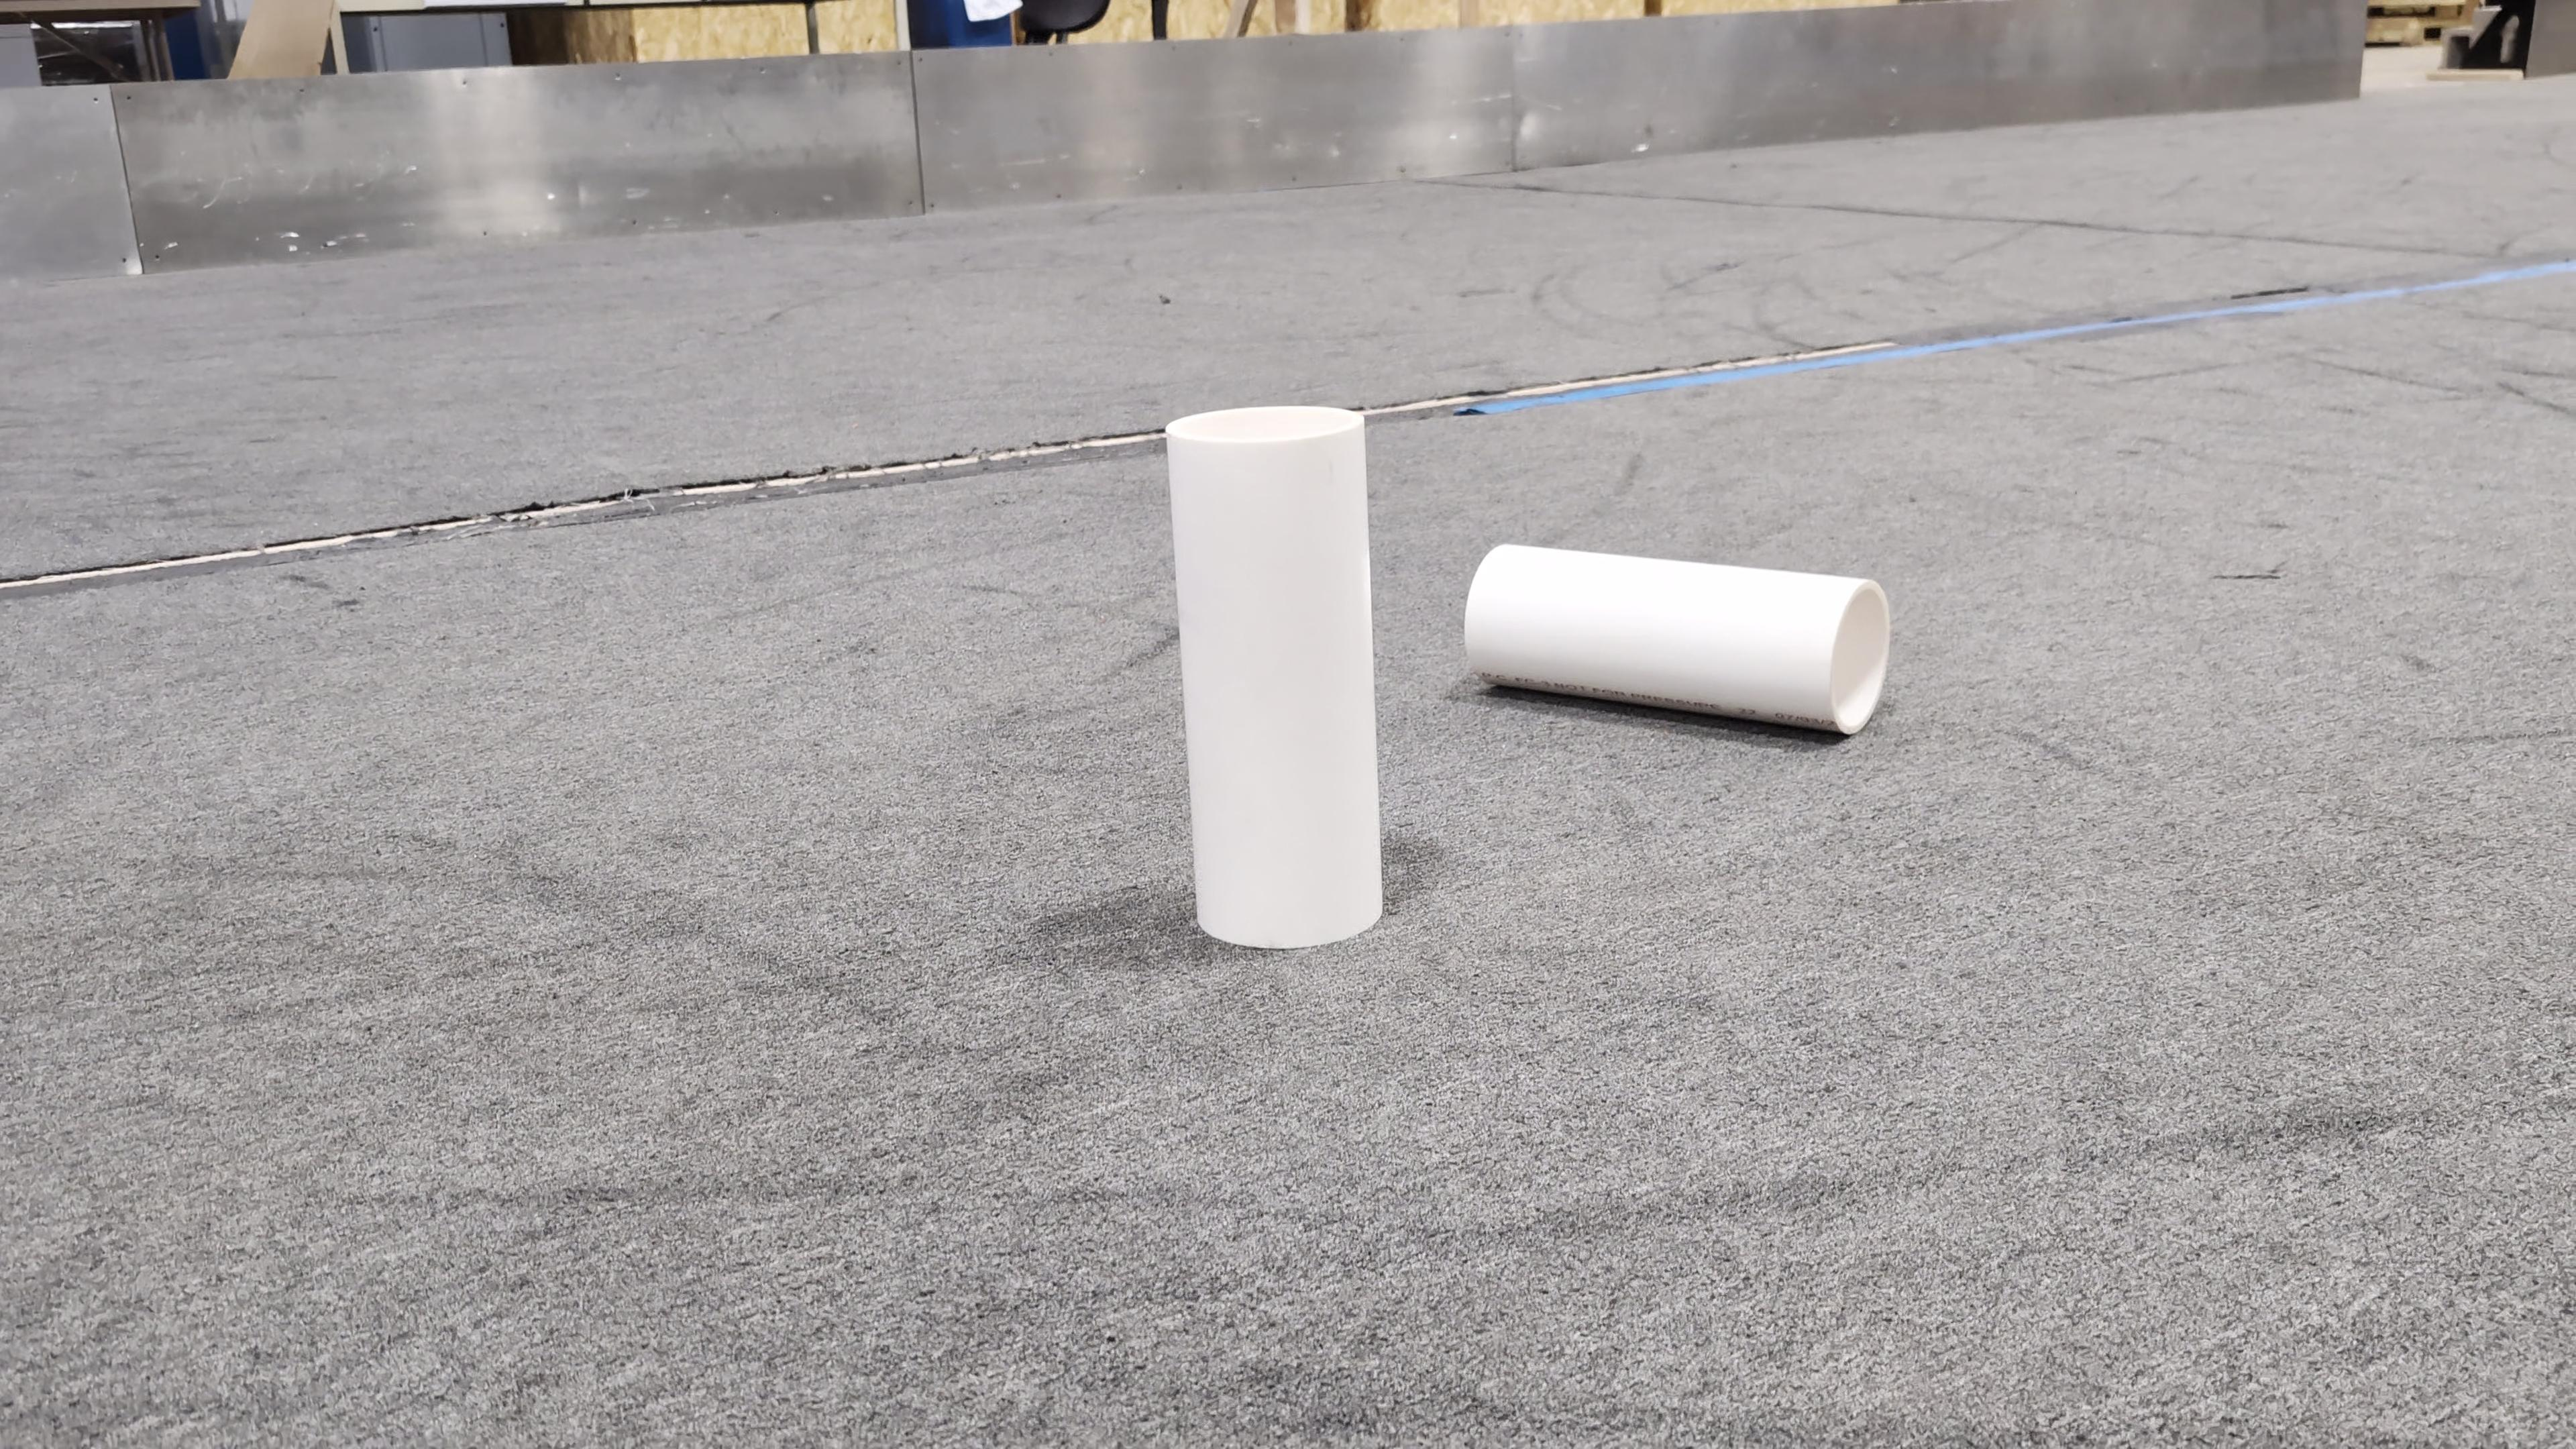coral: (1159, 403, 1385, 947), (1465, 540, 1891, 732)
